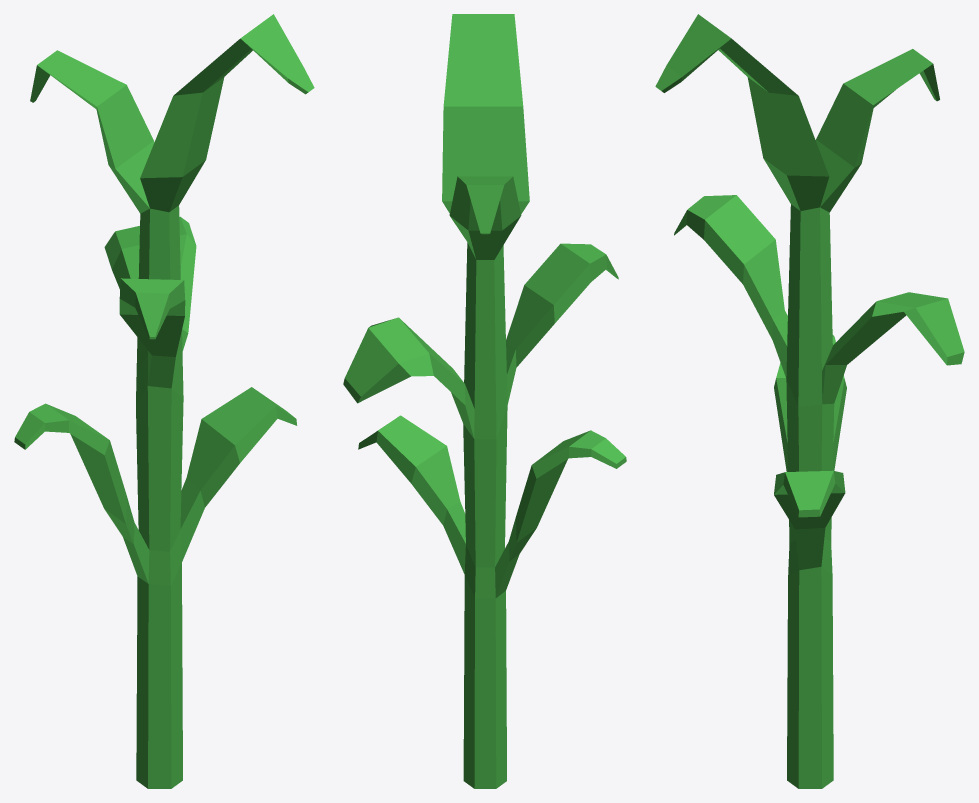
File: 2-corn.glb
3 renders of one model, left to right at view 1: azimuth 30°, elevation 25°; view 2: azimuth 150°, elevation 25°; view 3: azimuth 270°, elevation 25°, orthographic. The views are drawn at different scales.
Visible parts, largest first — view 1: Цилиндр; view 2: Цилиндр; view 3: Цилиндр.
Boxes of the visible parts, x1,y1,x2,y2 form: Цилиндр: (14, 14, 314, 788); Цилиндр: (343, 14, 626, 788); Цилиндр: (655, 14, 964, 788).
Size of the model in its own units: 0.9779 by 2.64 by 0.9515.
